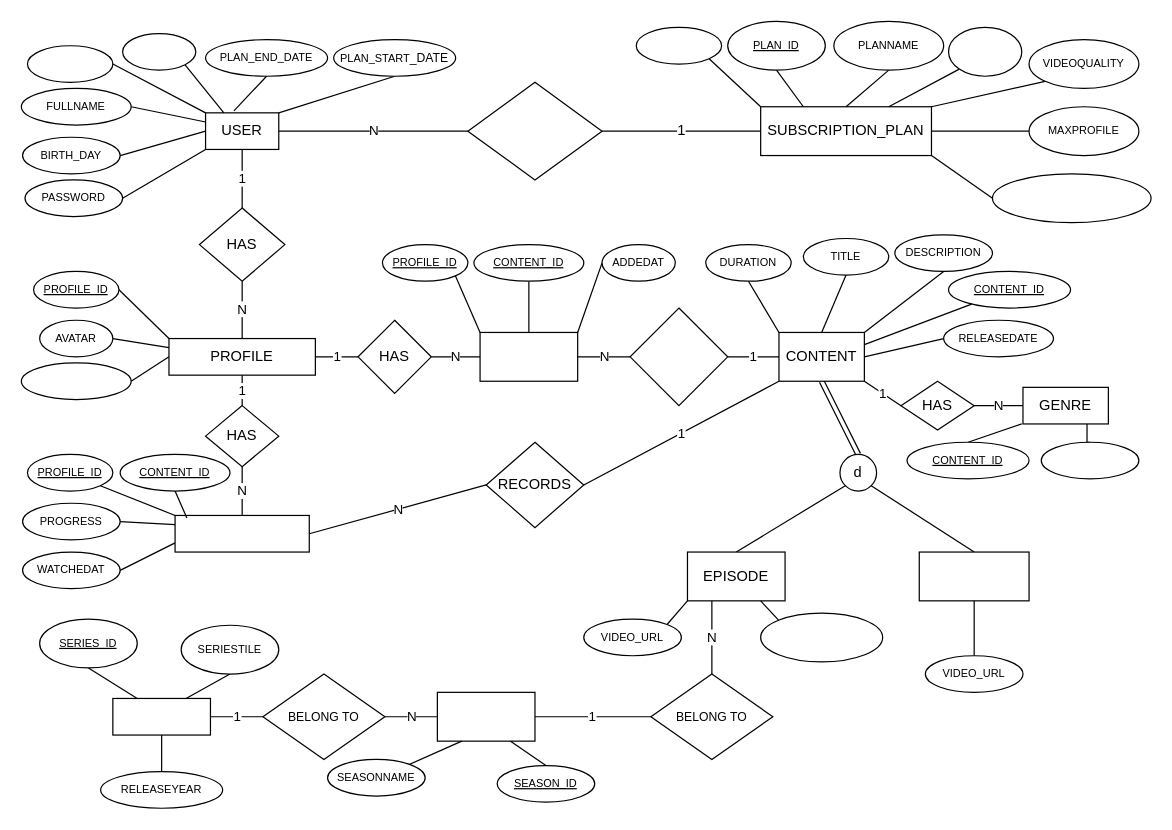
Image size: 1172x830. Some labels were removed from this diagram. Here are the shapes that lost their labels. From the top down, the box of each, then its label:
(26, 45, 113, 82): USER_ID
(121, 32, 196, 70): EMAIL
(635, 26, 722, 64): maxdevices
(947, 26, 1022, 76): PRICE
(467, 81, 602, 180): SUBSCRIBES
(991, 173, 1151, 223): EARLYACCESSDAYS
(479, 331, 578, 381): WATCHLIST
(629, 307, 728, 406): CONTAIN
(20, 362, 131, 400): PROFILENAME
(1040, 441, 1139, 479): GENRENAME
(174, 514, 309, 552): WATCH_HISTORY
(918, 551, 1029, 601): MOVIE
(759, 612, 883, 662): EPISODENUMBER
(112, 697, 210, 735): TV_SERIES
(436, 691, 535, 741): SEASON
